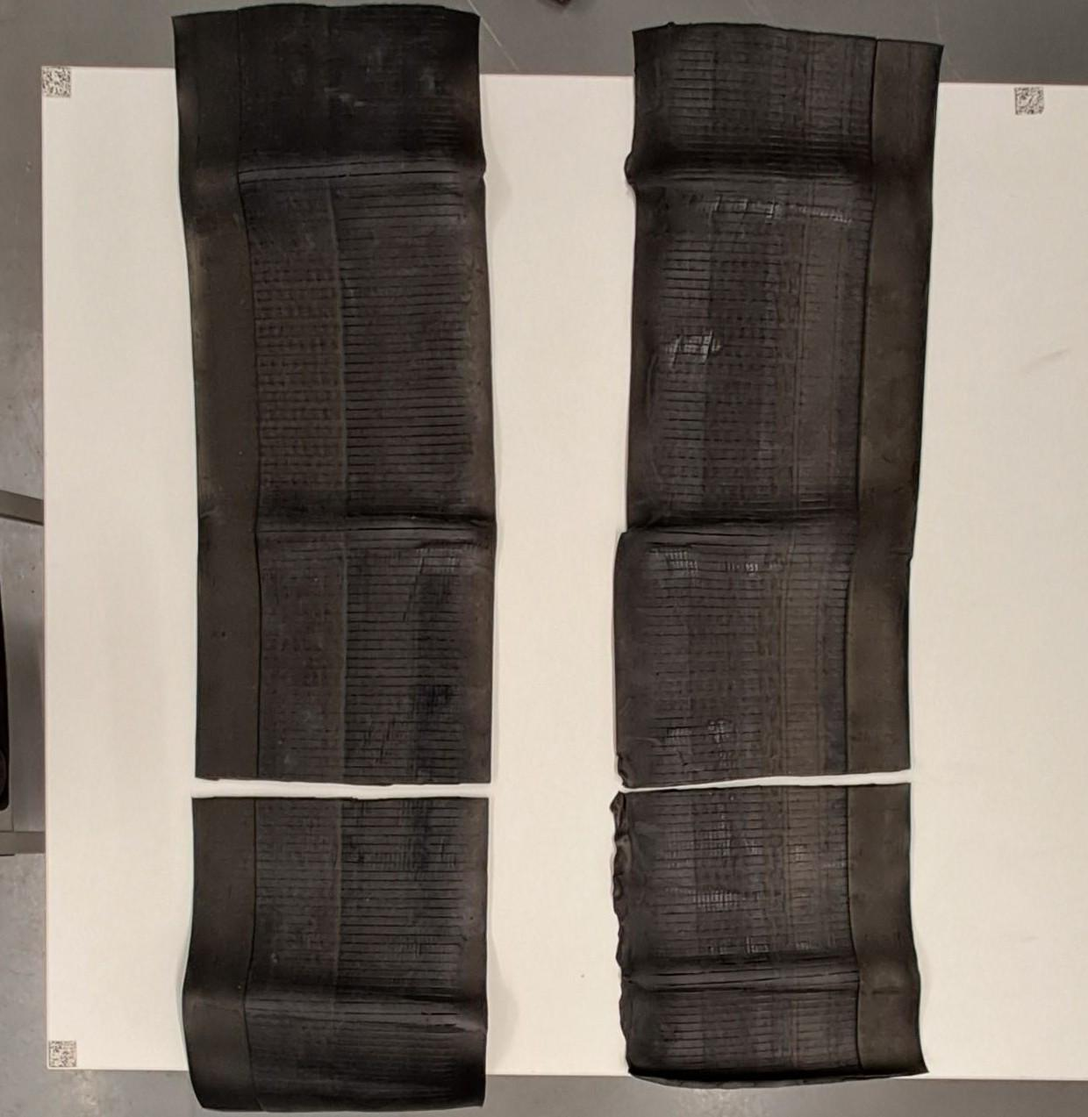cut_edge: (619, 769, 909, 793), (192, 777, 489, 799)
